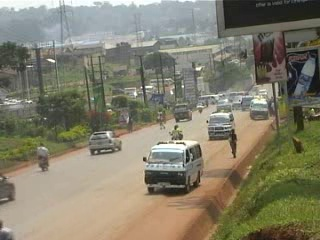Car: (86, 124, 124, 157), (0, 167, 17, 203), (217, 96, 234, 112), (233, 95, 244, 109)
Motorcycle: (38, 156, 49, 172), (169, 129, 182, 140), (197, 106, 202, 114)
